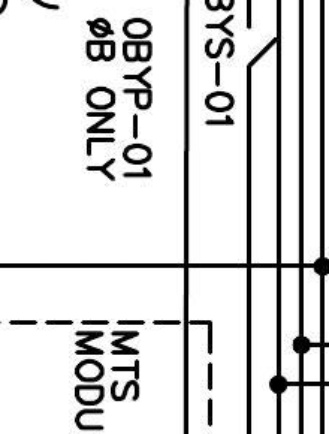115_ds: (246, 23, 276, 68)
